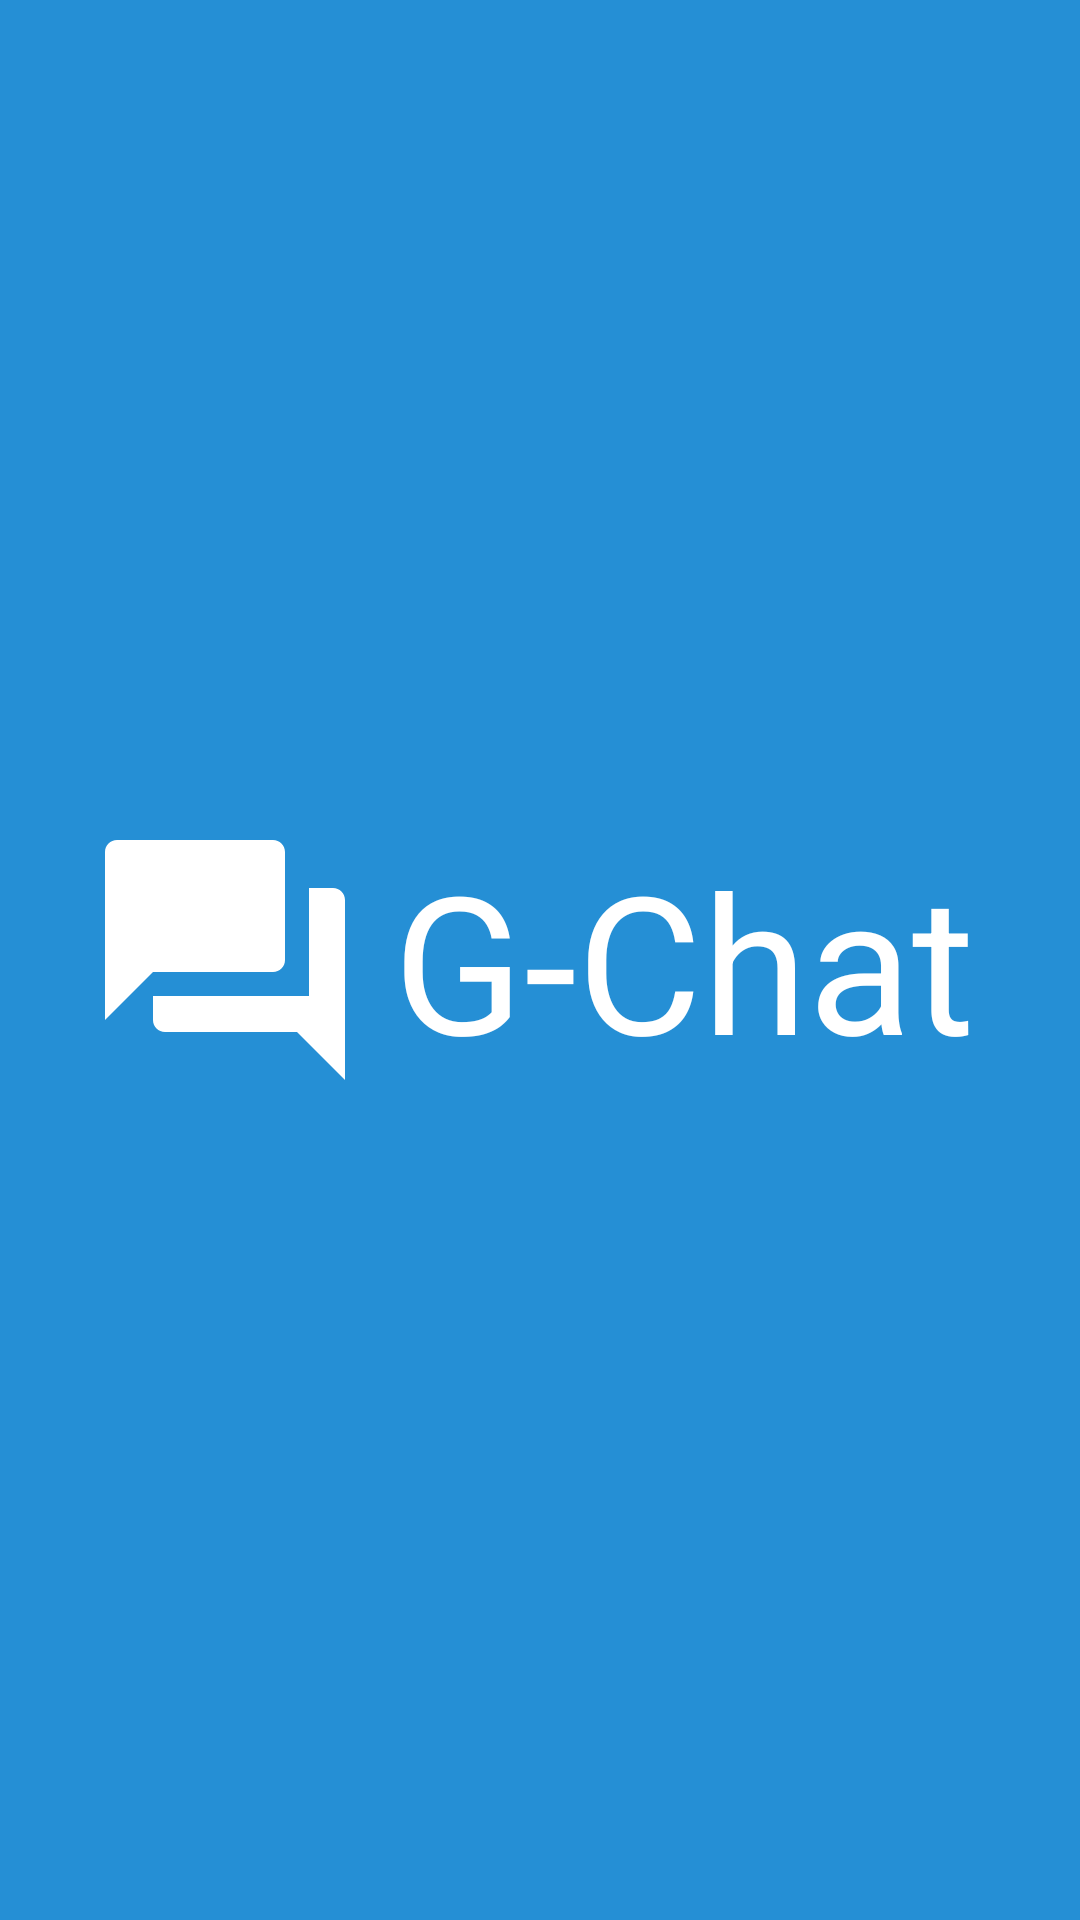

Point at icon controls on the screen. Image size 1080 × 1920, points as [x,y].
question answer: [225,960]
